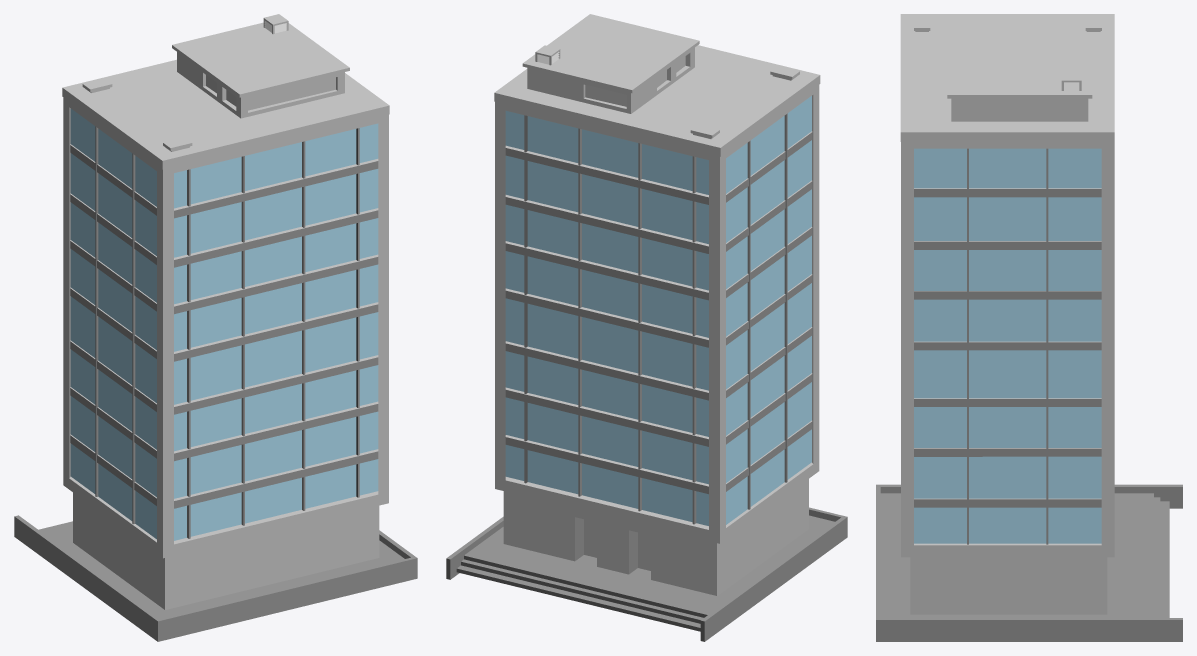
Rendered from building3.glb.
3 views of the same model, side by side, from view 1: azimuth 30°, elevation 25°; view 2: azimuth 150°, elevation 25°; view 3: azimuth 270°, elevation 25° (orthographic). The views are drawn at different scales.
Visible parts, largest first — view 1: huitugou_2443_2801; view 2: huitugou_2443_2801; view 3: huitugou_2443_2801.
Boxes of the visible parts, x1,y1,x2,y2 form: huitugou_2443_2801: (14, 14, 417, 641); huitugou_2443_2801: (446, 14, 847, 641); huitugou_2443_2801: (876, 14, 1182, 641).
Size of the model in its own units: 5.24 by 9.74 by 5.02.
Materials: 1 (1 with a texture image).
